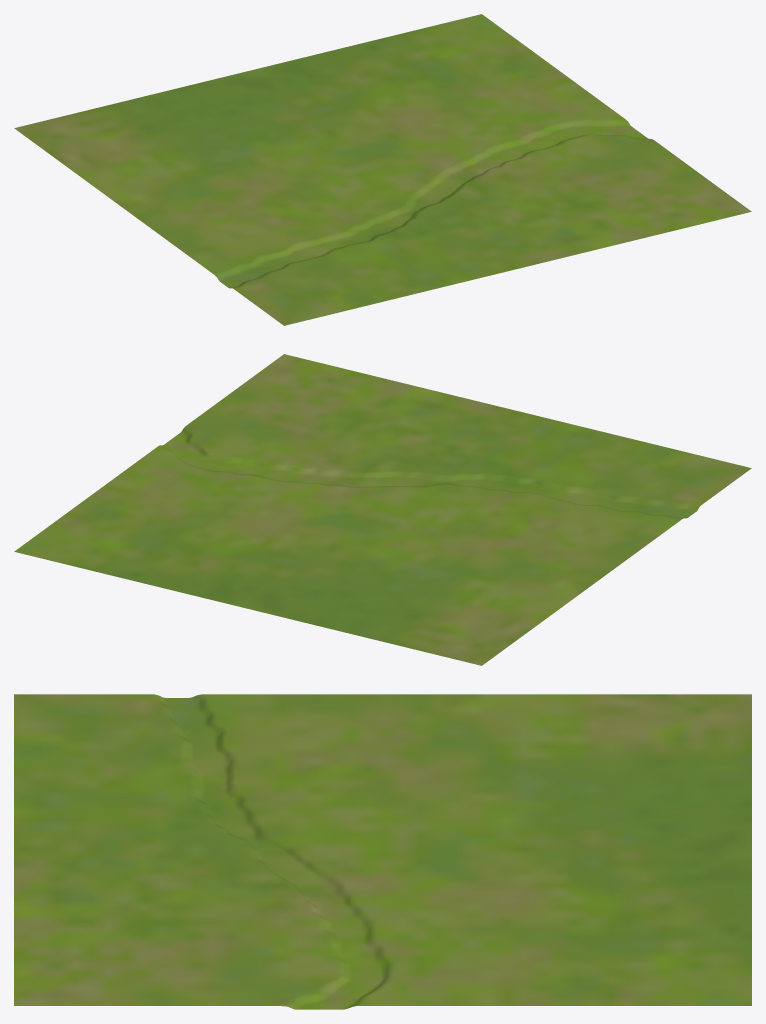
Rendered from GroundTileMesh_9_21.fbx.
The picture shows the model from 3 angles, top to bottom: view 1: azimuth 30°, elevation 25°; view 2: azimuth 150°, elevation 25°; view 3: azimuth 270°, elevation 25°; orthographic projection. The views are drawn at different scales.
Parts seen in each view (by area): view 1: GroundTile_9_21; view 2: GroundTile_9_21; view 3: GroundTile_9_21.
Boxes of the visible parts, left/top/right/bottom form: GroundTile_9_21: left=14, top=14, right=751, bottom=325; GroundTile_9_21: left=14, top=354, right=751, bottom=665; GroundTile_9_21: left=14, top=694, right=751, bottom=1009.
Size of the model in its own units: 32500 by 183 by 32500.
